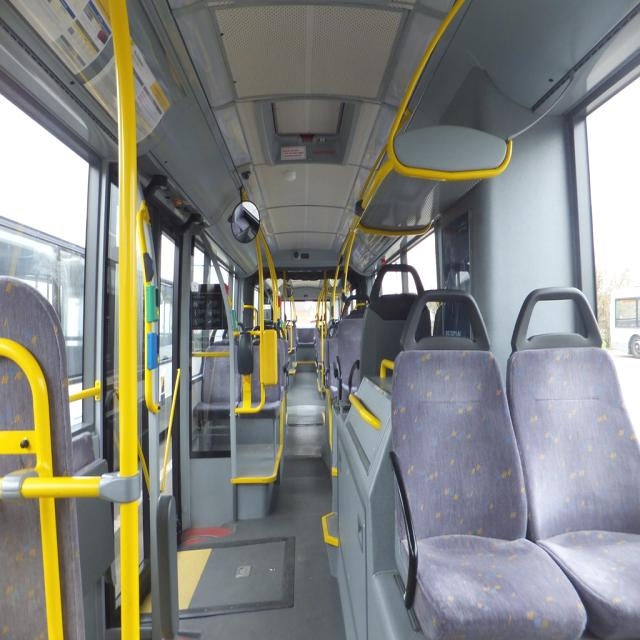asiento-libre: (384, 289, 585, 640), (388, 288, 588, 640), (506, 287, 640, 640), (506, 287, 640, 639), (0, 275, 86, 640), (353, 264, 425, 410), (192, 340, 245, 436), (193, 329, 241, 426), (236, 327, 285, 421), (236, 333, 289, 419), (328, 300, 368, 410), (332, 308, 368, 408), (325, 311, 343, 398), (320, 320, 342, 388), (312, 314, 324, 376), (281, 326, 296, 373)
